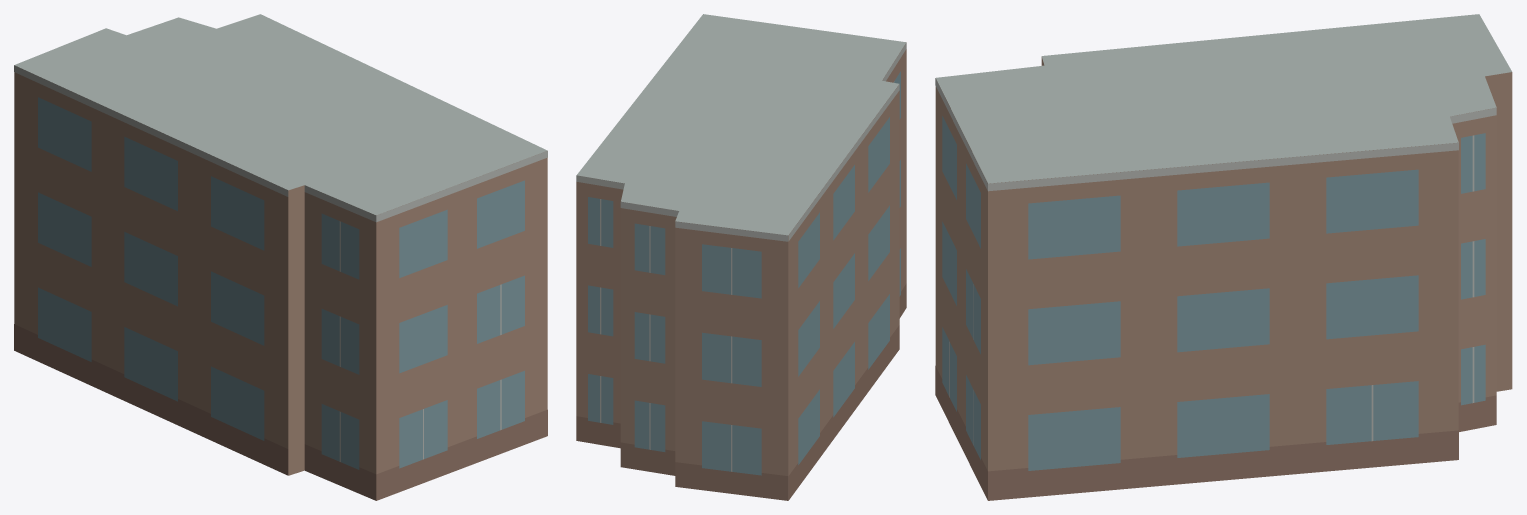
Rendered from survey-upis-32624515.glb.
3 views of the same model, side by side, from view 1: azimuth 30°, elevation 25°; view 2: azimuth 150°, elevation 25°; view 3: azimuth 270°, elevation 25° (orthographic). The views are drawn at different scales.
Parts seen in each view (by area): view 1: survey-upis-32624515.tmp; view 2: survey-upis-32624515.tmp; view 3: survey-upis-32624515.tmp.
Boxes of the visible parts, <box> form: survey-upis-32624515.tmp: <box>14,14,547,500</box>; survey-upis-32624515.tmp: <box>576,14,906,500</box>; survey-upis-32624515.tmp: <box>935,14,1512,500</box>.
Size of the model in its own units: 11.59 by 10.1 by 16.65.
